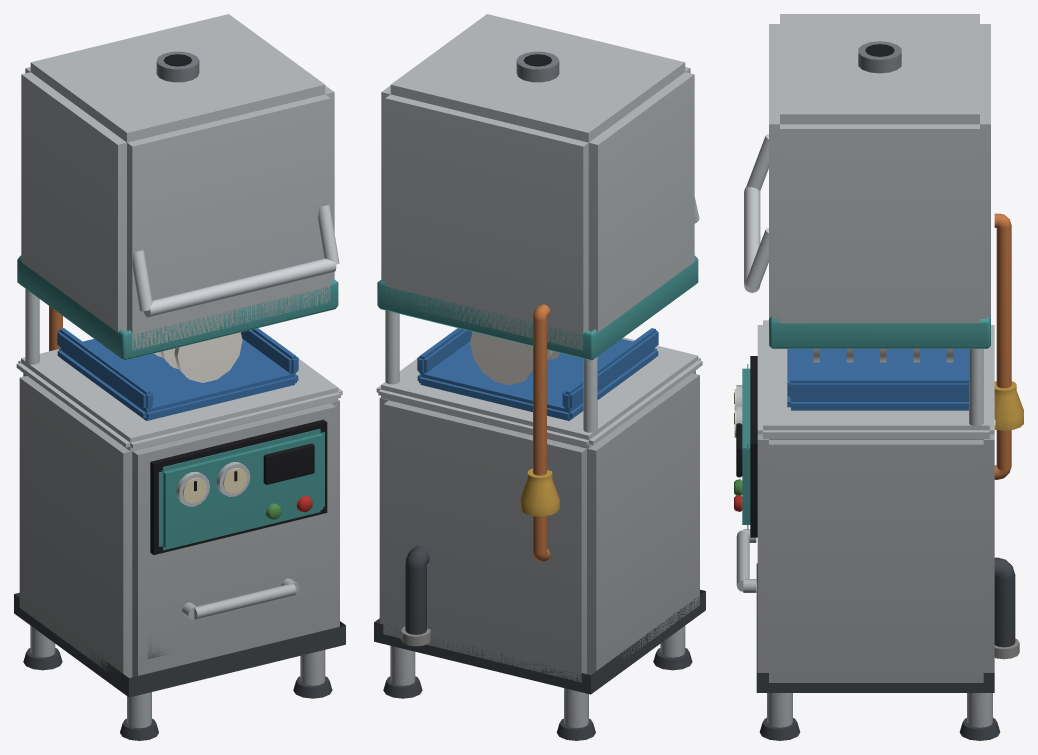
File: SM_DishMachine_Door_01.glb
The picture shows the model from 3 angles, left to right: view 1: azimuth 30°, elevation 25°; view 2: azimuth 150°, elevation 25°; view 3: azimuth 270°, elevation 25°; orthographic projection. The views are drawn at different scales.
Parts seen in each view (by area): view 1: SM_DishMachine_Door_01; view 2: SM_DishMachine_Door_01; view 3: SM_DishMachine_Door_01.
Part boxes in pixels (x1,y1,x2,y2): SM_DishMachine_Door_01: (14,14,345,740); SM_DishMachine_Door_01: (374,14,705,740); SM_DishMachine_Door_01: (734,14,1023,740).
Size of the model in its own units: 0.702 by 1.9 by 0.7826.
1 material, 1 textured.
